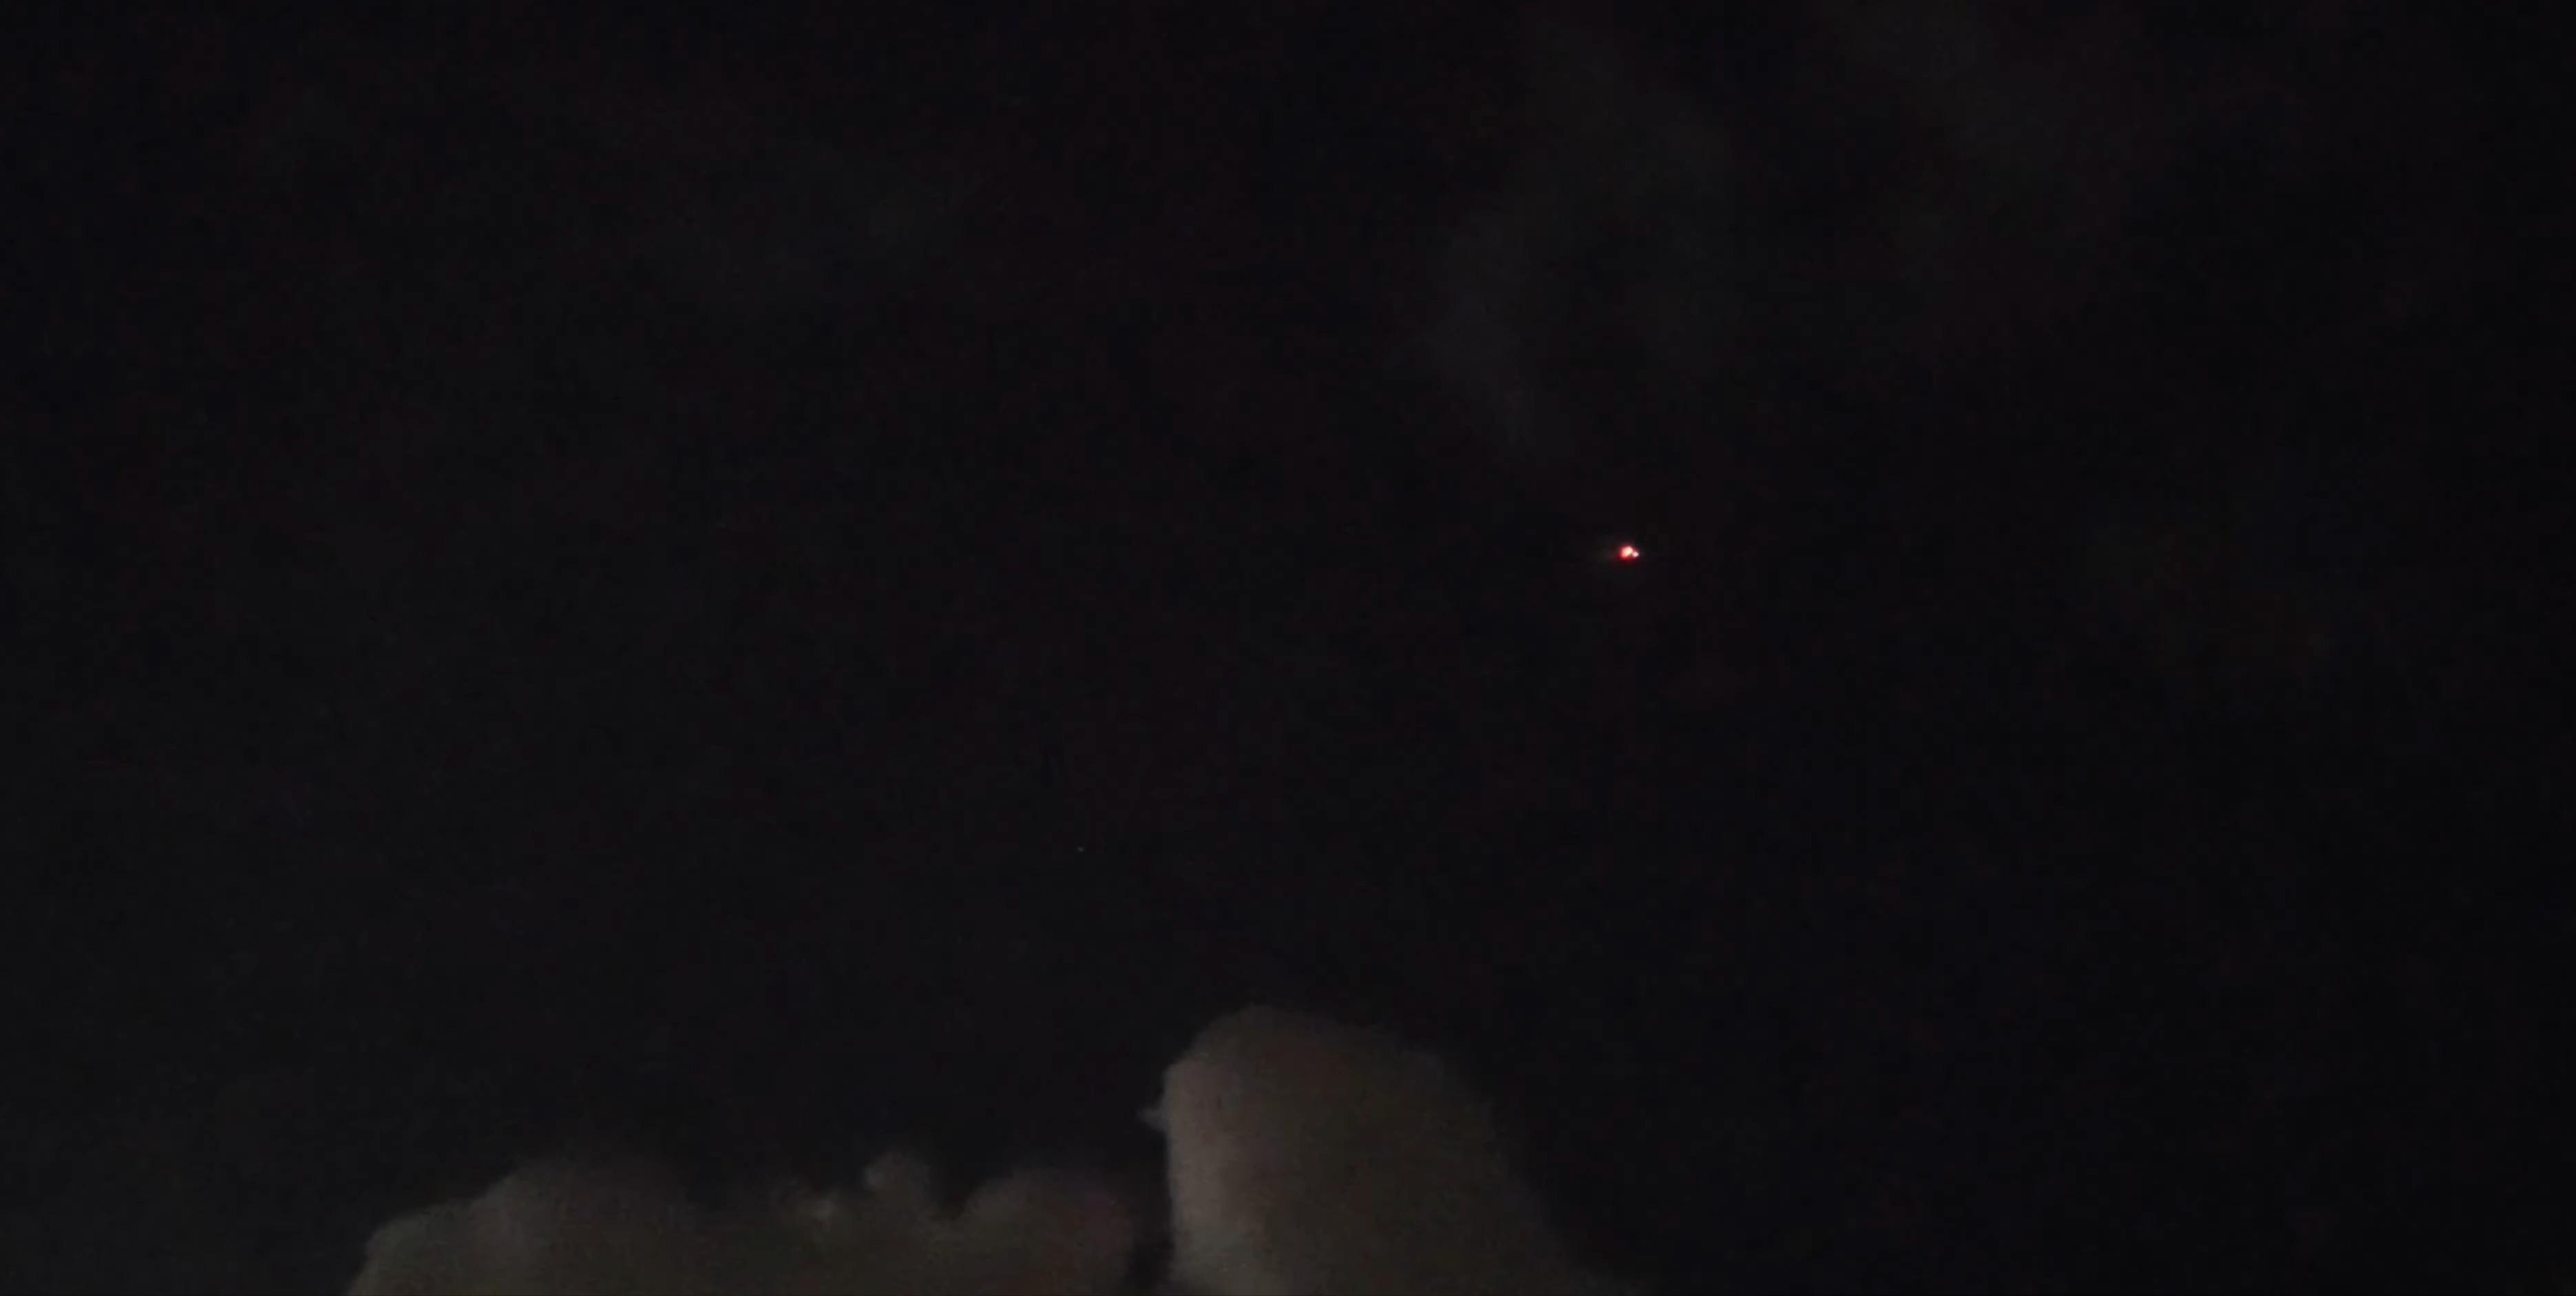Plane: (1573, 522, 1705, 585)
